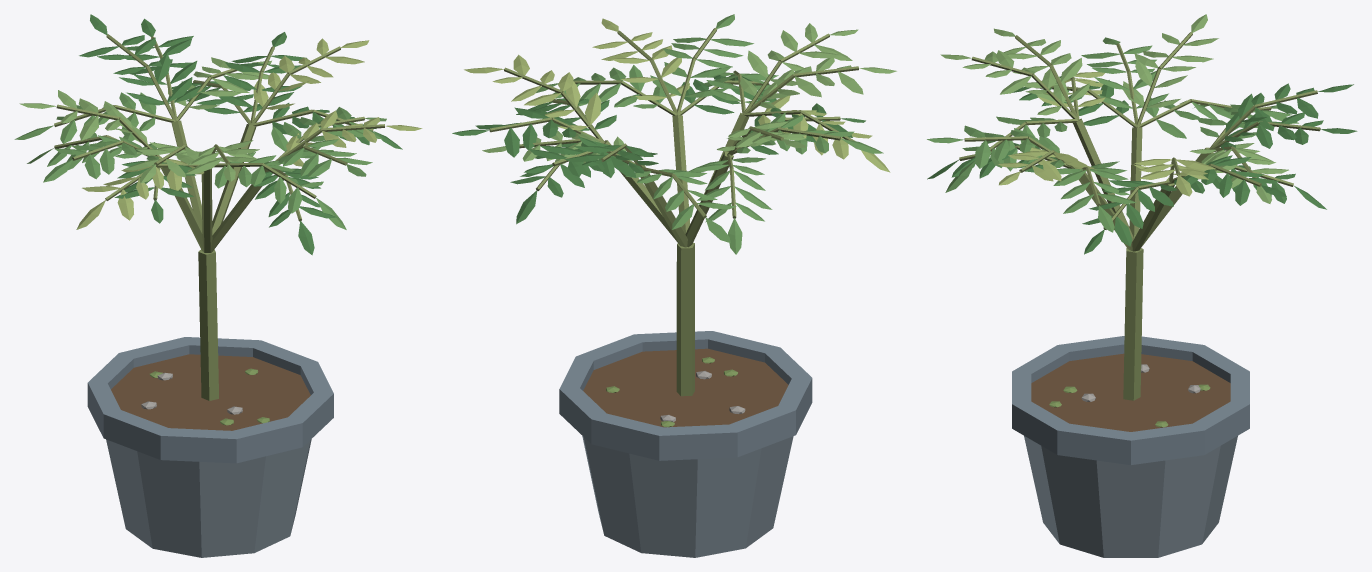
Rendered from neem.glb.
3 views of the same model, side by side, from view 1: azimuth 30°, elevation 25°; view 2: azimuth 150°, elevation 25°; view 3: azimuth 270°, elevation 25° (orthographic). The views are drawn at different scales.
Parts seen in each view (by area): view 1: pot, plant; view 2: pot, plant; view 3: pot, plant.
Part boxes in pixels (x1,y1,x2,y2): pot: (87,337,333,557); plant: (14,14,422,400); pot: (559,331,812,557); plant: (452,14,896,396); pot: (1012,336,1249,557); plant: (927,14,1357,400).
Bounding box in the file's own units: 0.6353 × 0.7129 × 0.6385.
